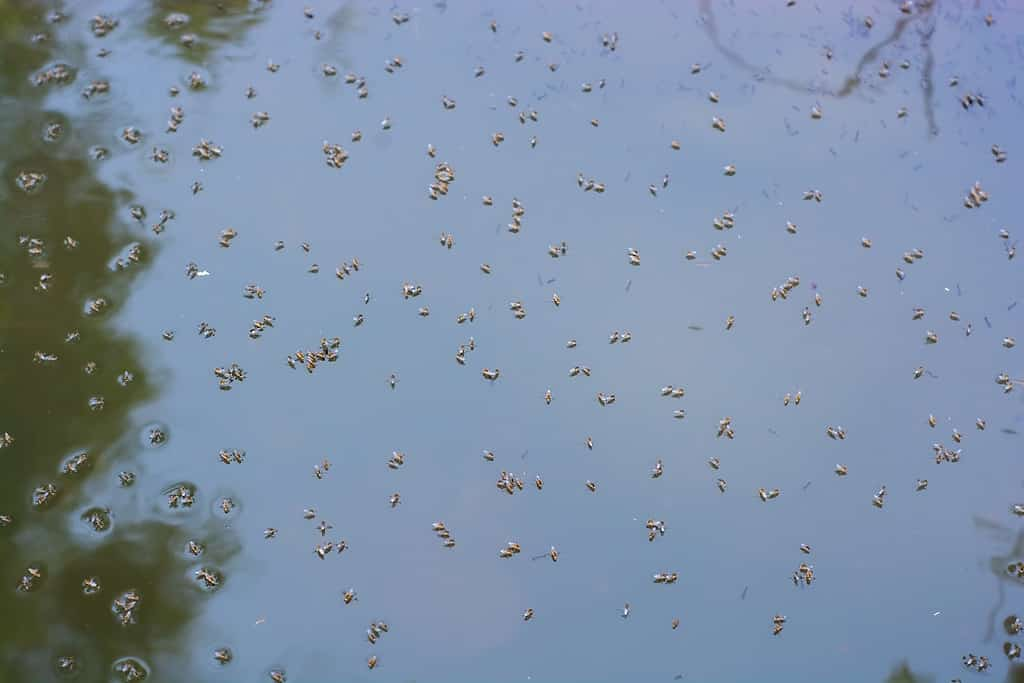Breeding_detected: (103, 573, 160, 627), (290, 334, 351, 382), (421, 143, 462, 207), (214, 359, 269, 404), (928, 431, 973, 483), (951, 180, 997, 225), (104, 236, 144, 282), (763, 265, 803, 309), (704, 413, 749, 452), (494, 470, 547, 503), (784, 557, 823, 600), (315, 136, 353, 180), (118, 658, 156, 683), (335, 260, 368, 285)
